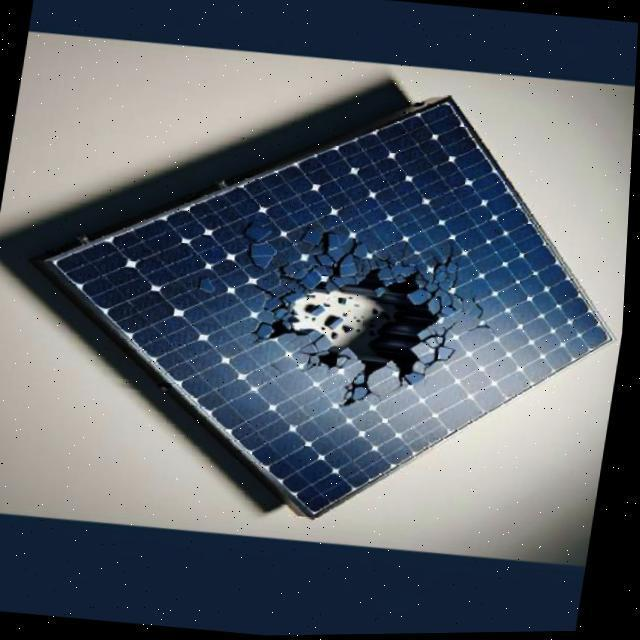Anomaly Solar Panel: (56, 31, 618, 574)
Structural Damage: (244, 225, 485, 426), (470, 295, 491, 323), (401, 245, 414, 262), (430, 251, 441, 267), (449, 241, 458, 259)
